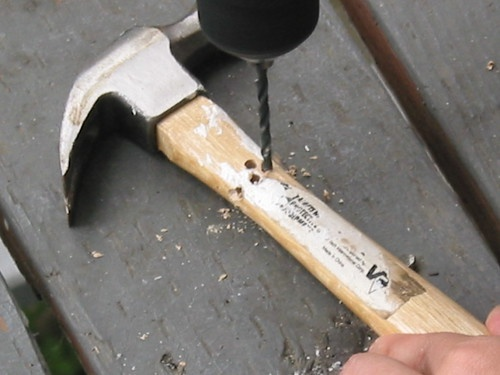hammer: (57, 6, 464, 332)
